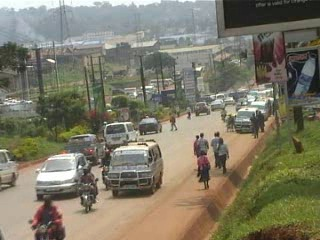Car: (32, 151, 91, 202), (134, 114, 164, 136), (191, 99, 211, 117), (210, 97, 225, 112), (220, 96, 235, 106)
Motorcycle: (73, 177, 101, 214), (26, 216, 69, 239), (98, 161, 111, 193), (96, 144, 110, 165), (218, 110, 228, 123)
